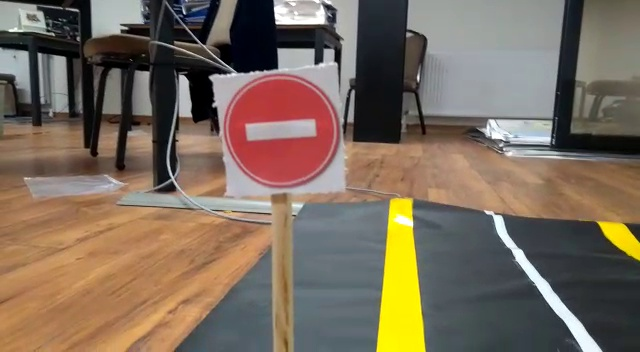girisi_olmayan_yol: (209, 74, 343, 189)
